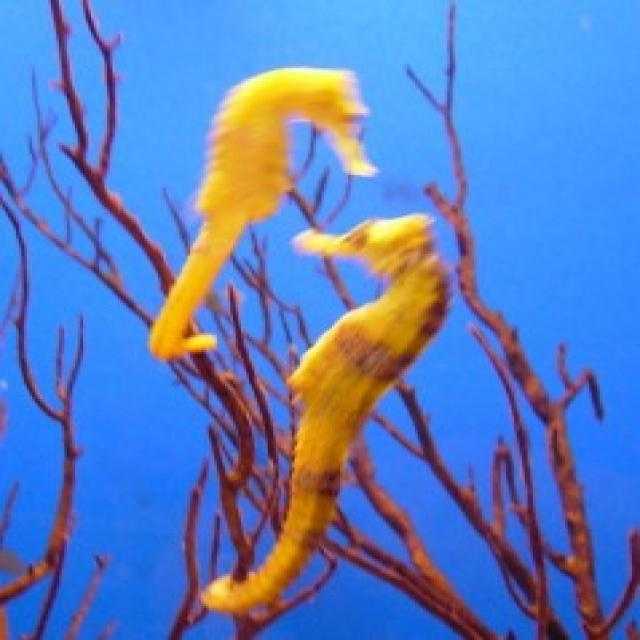Seahorse: (275, 208, 468, 580), (131, 65, 380, 274)
